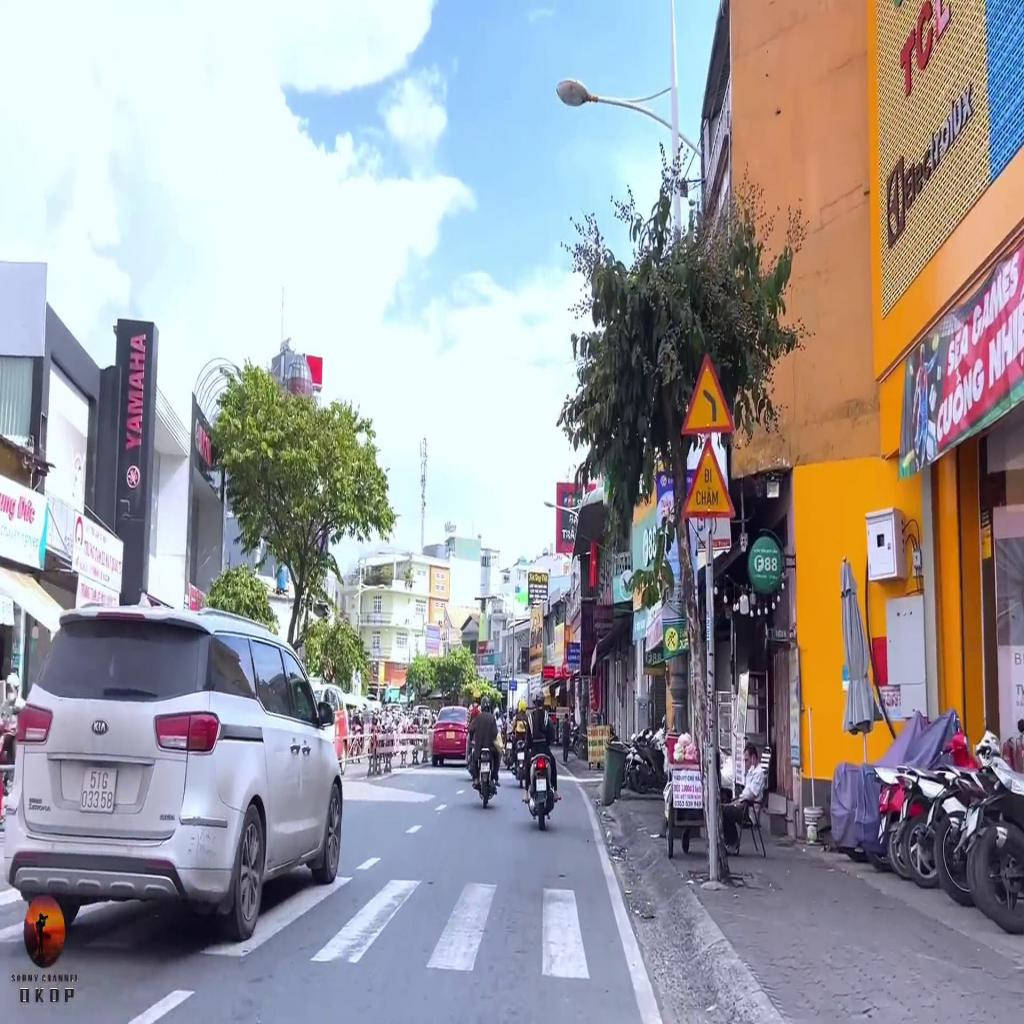cho_ngoat_nguy_hiem_ben_trai: (680, 351, 735, 434)
di_cham: (682, 435, 736, 519)
